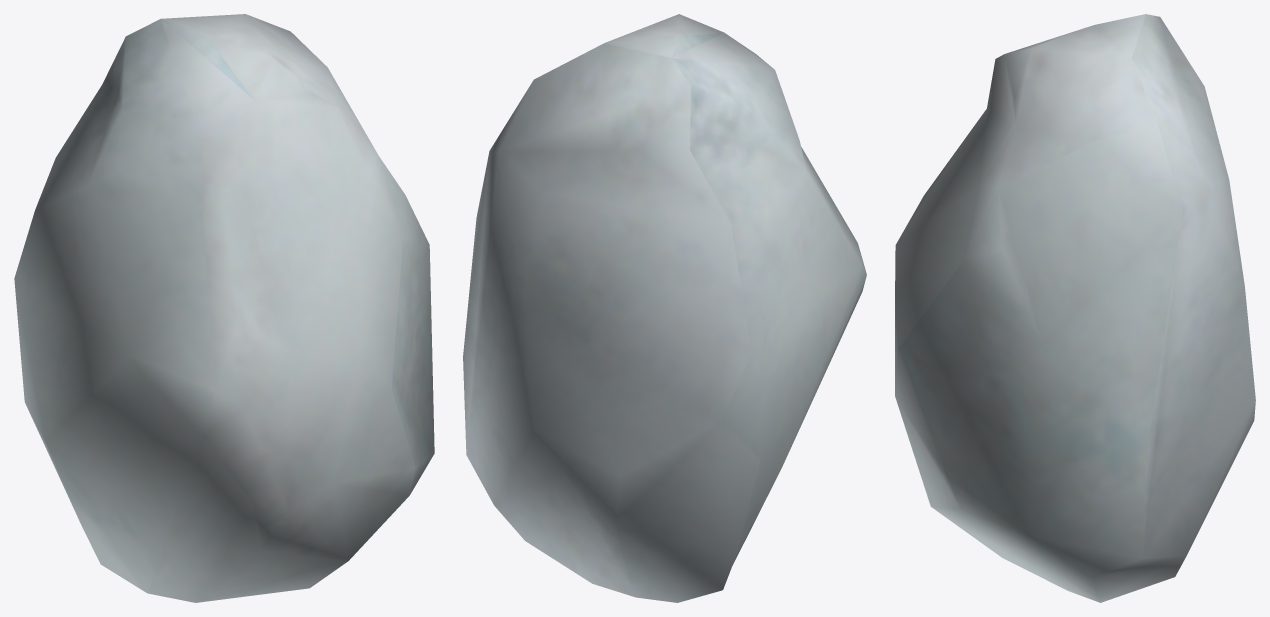
Rendered from P_BoulderClassic2.obj.
The picture shows the model from 3 angles, left to right: view 1: azimuth 30°, elevation 25°; view 2: azimuth 150°, elevation 25°; view 3: azimuth 270°, elevation 25°; orthographic projection. The views are drawn at different scales.
Bounding box in the file's own units: 5.59 × 8.9 × 5.51.
